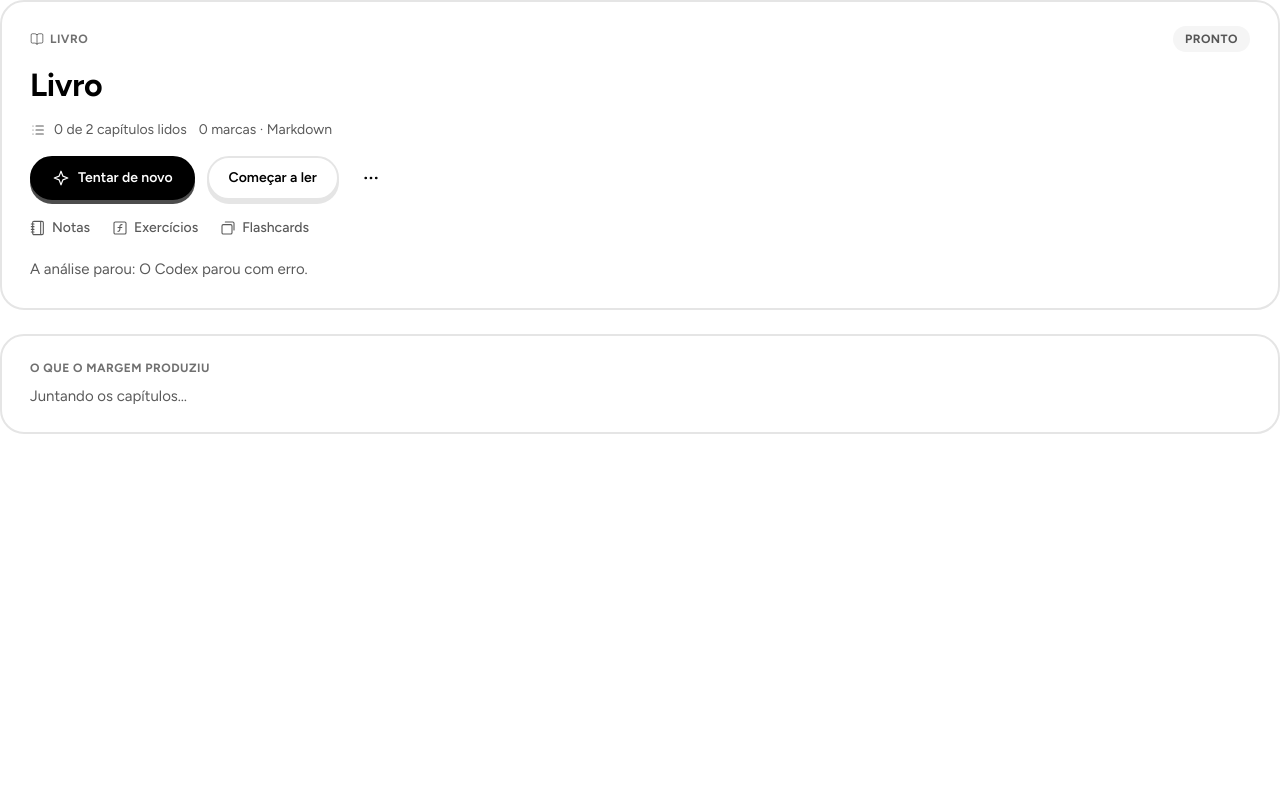
it: operação de leitura › falha vira "Tentar de novo"; num livro, "Analisar todos os capítulos" pede o livro inteiro
Expected: the text "A análise parou: O Codex parou com erro." is shown, [30,258,308,280]
Click the button "Tentar de novo" at (112, 178), box [30,156,195,200]
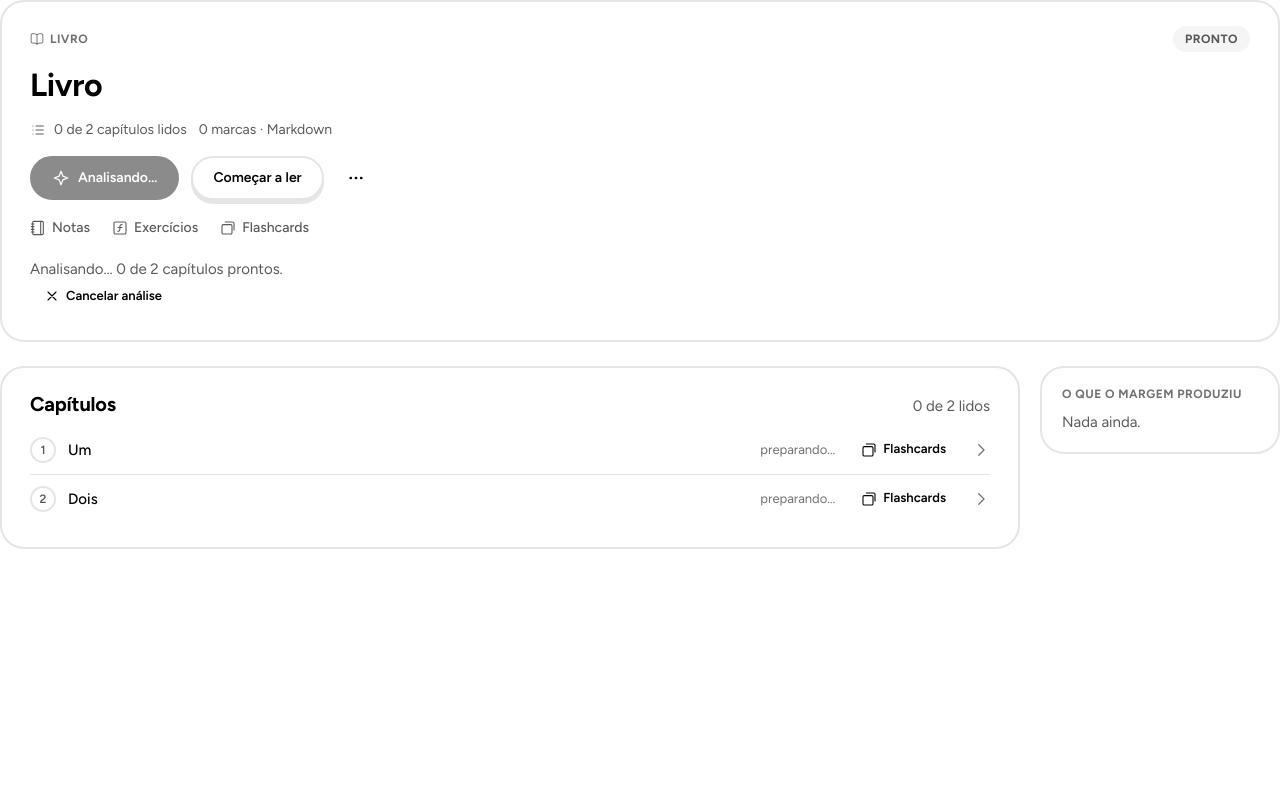
Expected: the text "Analisando… 0 de 2 capítulos prontos." is shown, [30,258,283,280]
